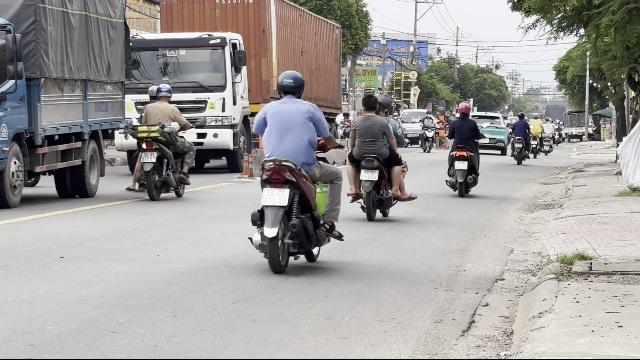helmet: (274, 70, 306, 99), (374, 94, 391, 114), (154, 83, 172, 101), (456, 103, 470, 118)
licenseplate: (262, 188, 290, 206), (360, 170, 380, 180), (140, 152, 156, 162), (454, 160, 468, 170)
motorcyclist: (245, 66, 343, 274), (344, 92, 414, 220), (125, 83, 195, 201), (443, 102, 482, 196)
nohelmet: (359, 94, 377, 114)
